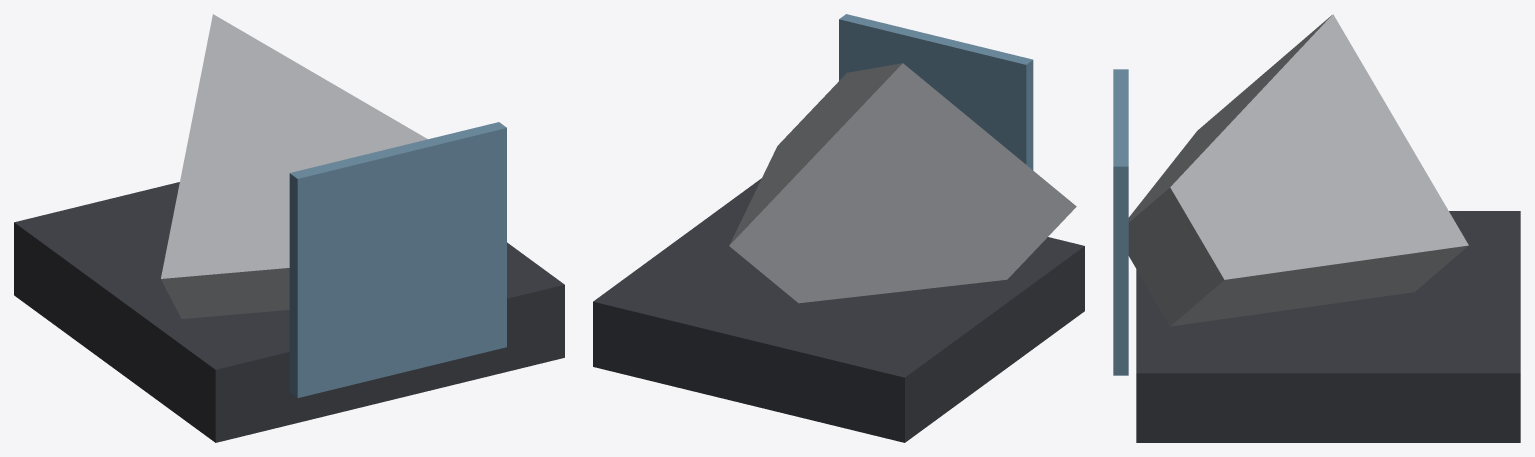
File: Com_Patch.fbx
3 views of the same model, side by side, from view 1: azimuth 30°, elevation 25°; view 2: azimuth 150°, elevation 25°; view 3: azimuth 270°, elevation 25° (orthographic). The views are drawn at different scales.
Parts seen in each view (by area): view 1: Com_Patch; view 2: Com_Patch; view 3: Com_Patch.
Part boxes in pixels (left/top/right/bottom): Com_Patch: left=14, top=14, right=564, bottom=442; Com_Patch: left=593, top=14, right=1084, bottom=442; Com_Patch: left=1113, top=14, right=1520, bottom=442.
Size of the model in its own units: 0.5328 by 0.5 by 0.53.
Materials: 1 (1 with a texture image).
